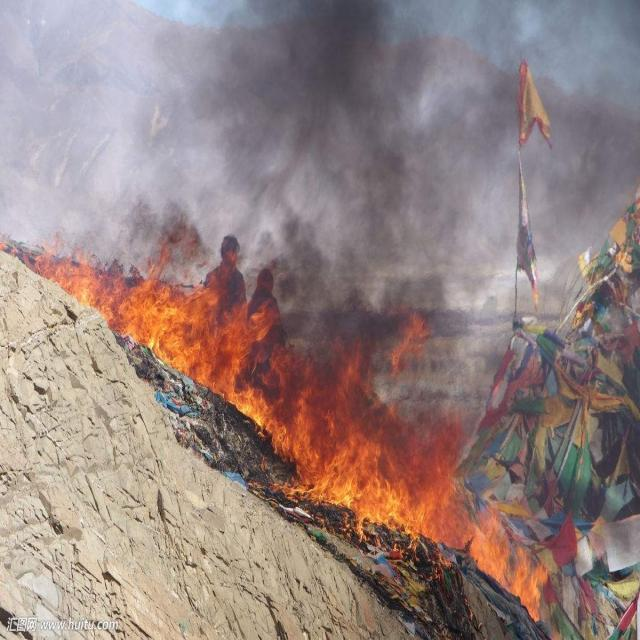Fire: (0, 225, 550, 624)
Smoke: (120, 0, 640, 425)
